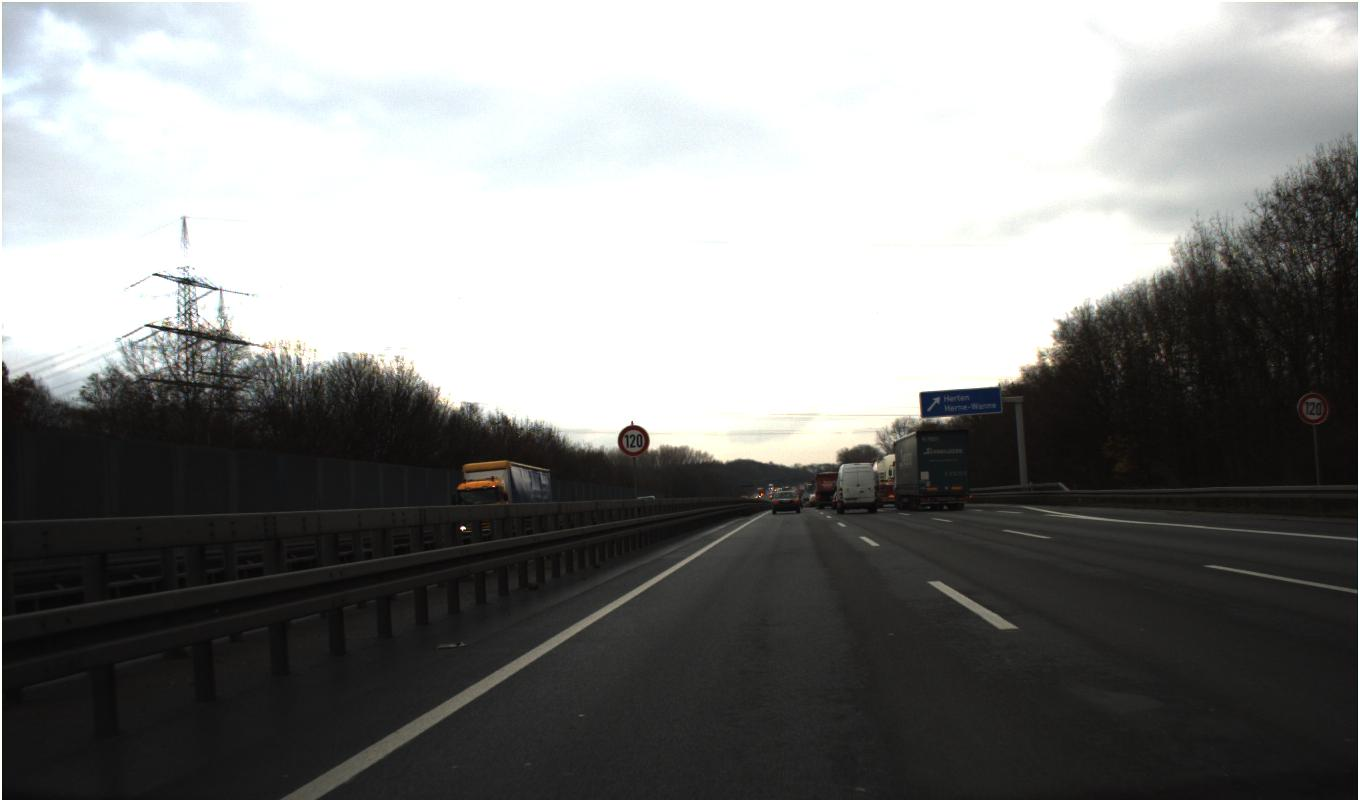prohibitory: (616, 424, 650, 458), (1295, 391, 1329, 425)
